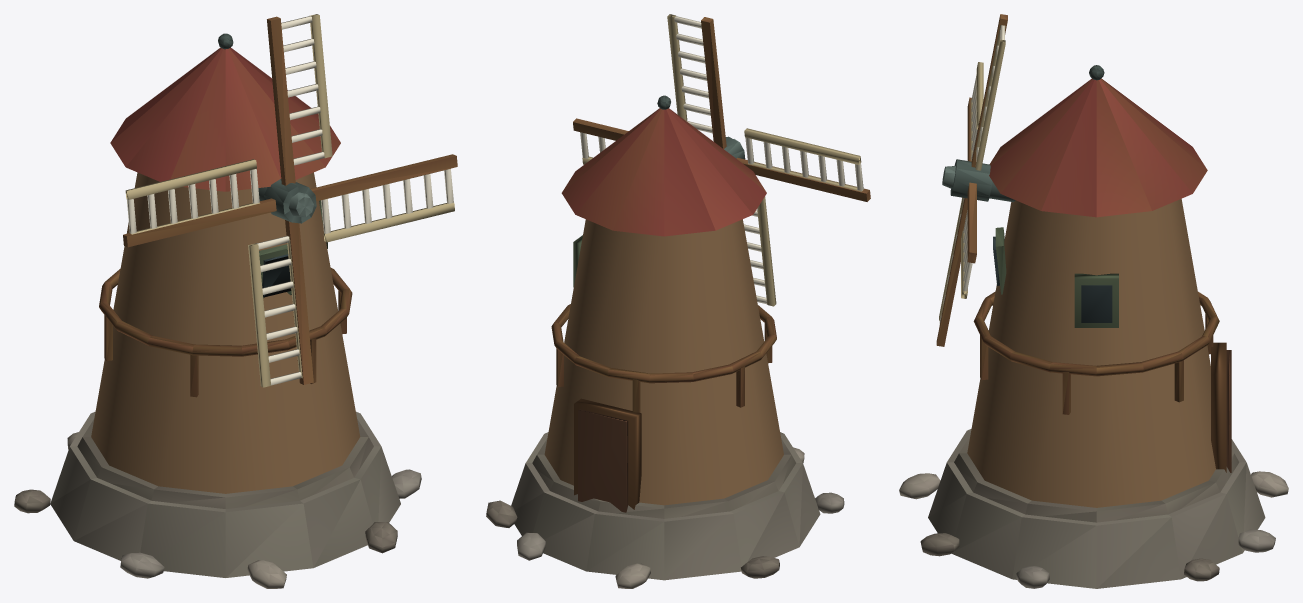
File: farm-windmill.fixed.glb
3 views of the same model, side by side, from view 1: azimuth 30°, elevation 25°; view 2: azimuth 150°, elevation 25°; view 3: azimuth 270°, elevation 25° (orthographic). The views are drawn at different scales.
Parts seen in each view (by area): view 1: windmillHardware, windmillTower, windmillSailLattice, windmillBlades; view 2: windmillHardware, windmillTower, windmillSailLattice, windmillDoorLeaf, windmillBlades, windmillDoorFrame; view 3: windmillTower, windmillHardware, windmillBlades, windmillSailLattice, windmillDoorFrame, windmillWindowFrameX, windmillWindowGlassX, windmillDoorLeaf.
Part boxes in pixels (left/top/right/bottom): windmillHardware: left=14, top=33, right=421, bottom=588; windmillTower: left=91, top=172, right=360, bottom=493; windmillSailLattice: left=125, top=14, right=454, bottom=387; windmillBlades: left=123, top=16, right=457, bottom=384; windmillHardware: left=486, top=95, right=844, bottom=588; windmillTower: left=544, top=219, right=783, bottom=505; windmillSailLattice: left=580, top=14, right=863, bottom=306; windmillDoorLeaf: left=578, top=409, right=628, bottom=512; windmillBlades: left=573, top=17, right=870, bottom=201; windmillDoorFrame: left=574, top=398, right=641, bottom=509; windmillTower: left=967, top=199, right=1215, bottom=507; windmillHardware: left=899, top=65, right=1288, bottom=588; windmillBlades: left=936, top=14, right=1007, bottom=346; windmillSailLattice: left=939, top=25, right=1005, bottom=324; windmillDoorFrame: left=1211, top=342, right=1226, bottom=472; windmillWindowFrameX: left=1074, top=273, right=1118, bottom=327; windmillWindowGlassX: left=1081, top=285, right=1112, bottom=322; windmillDoorLeaf: left=1226, top=350, right=1231, bottom=472.
Bounding box in the file's own units: 3.35 × 5 × 3.51.
